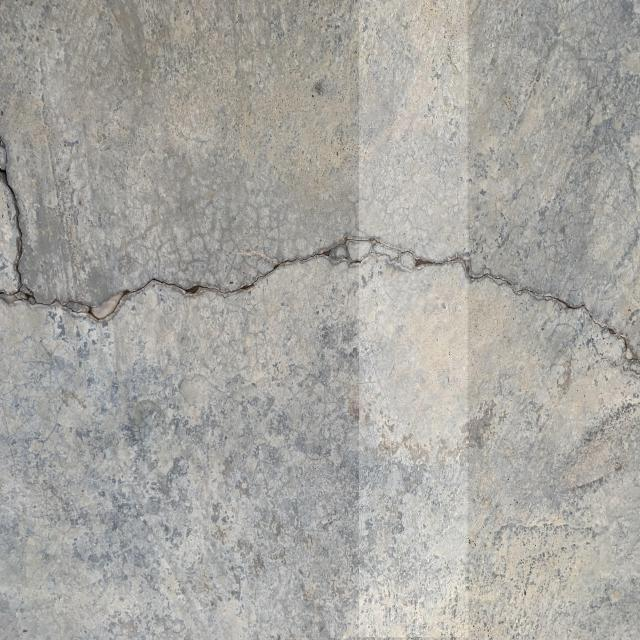multi-branched crack: (1, 124, 640, 408)
